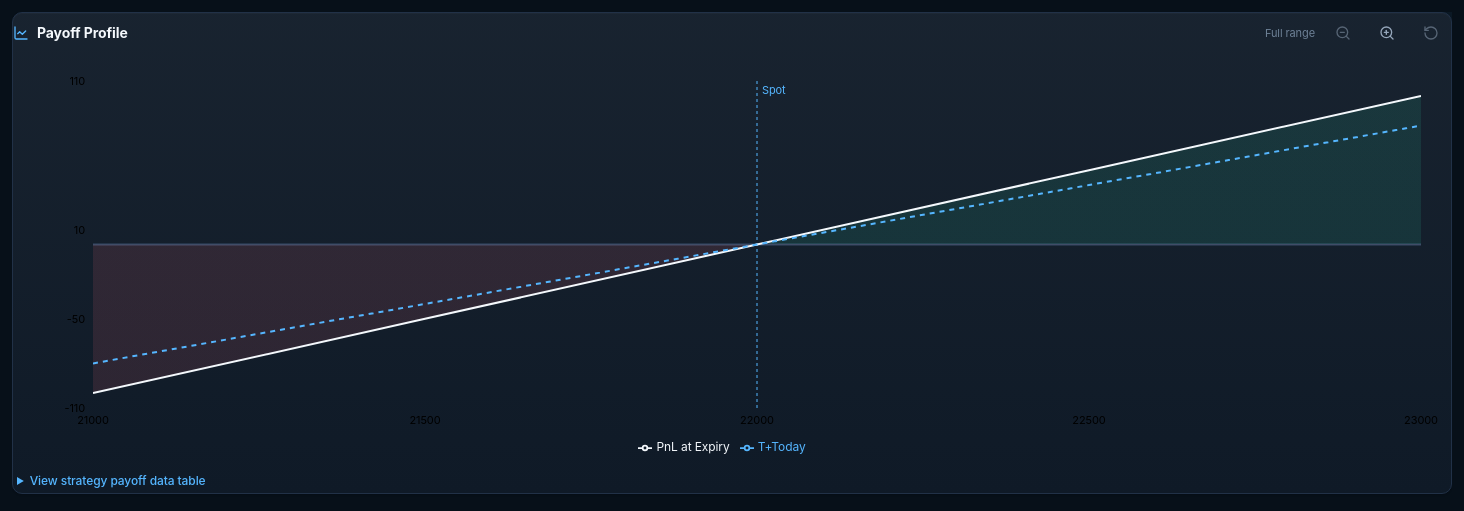
Test case: core UI components › zooms the payoff profile around spot and can reset the view
Expected: the text "Full range" is shown, [1265,25,1315,41]
Expected: the button named "Zoom out payoff profile" is disabled, [1323,13,1363,53]
Click the button named "Zoom in payoff profile".
click(1387, 33)  # box [1367,13,1407,53]
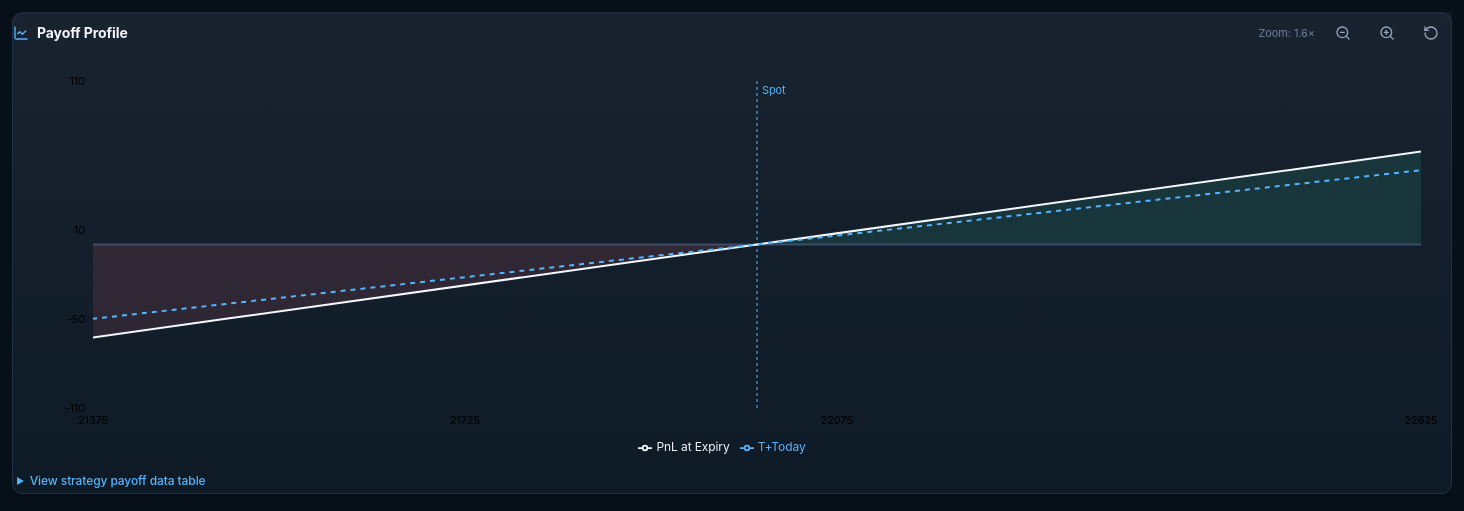
Result: the text "Zoom: 1.6×" is shown at [1258,25,1315,41]
Result: the button named "Zoom out payoff profile" is enabled at [1323,13,1363,53]
Right-click the picture named "strategy payoff profile".
right_click(732, 261)  # box [13,61,1451,461]
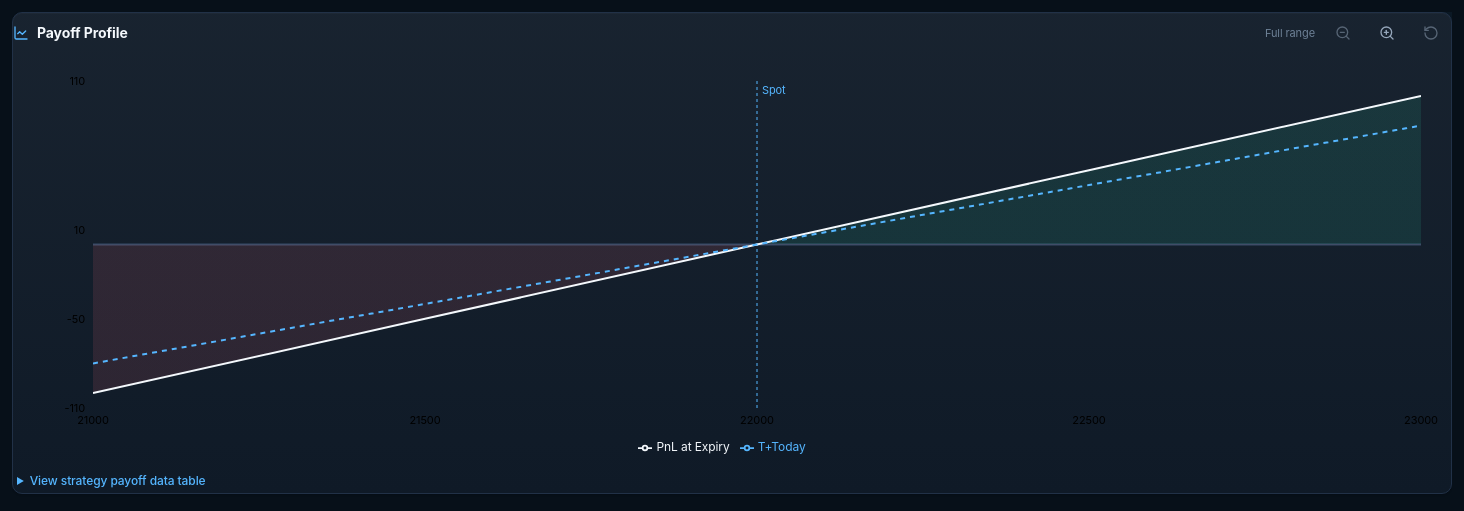
Result: the text "Full range" is shown at [1265,25,1315,41]
Result: the button named "Zoom out payoff profile" is disabled at [1323,13,1363,53]
